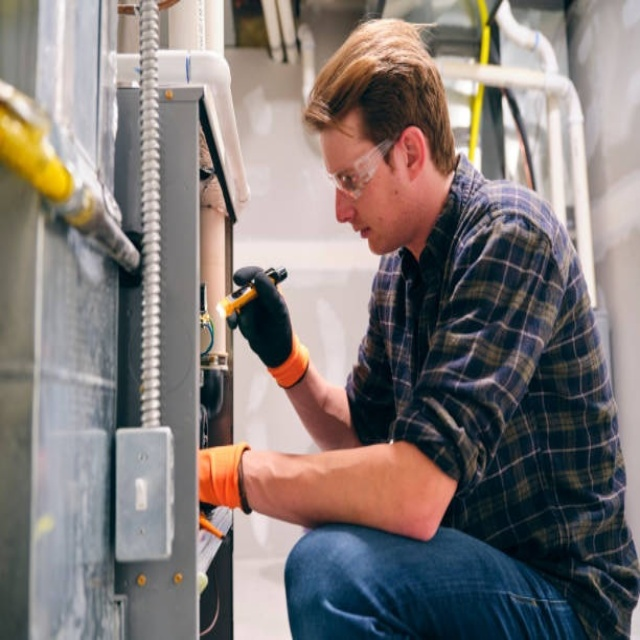Gafas: (325, 135, 397, 198)
Guantes: (227, 263, 307, 386), (198, 441, 252, 514)
Sin_mascara: (334, 208, 386, 252)
